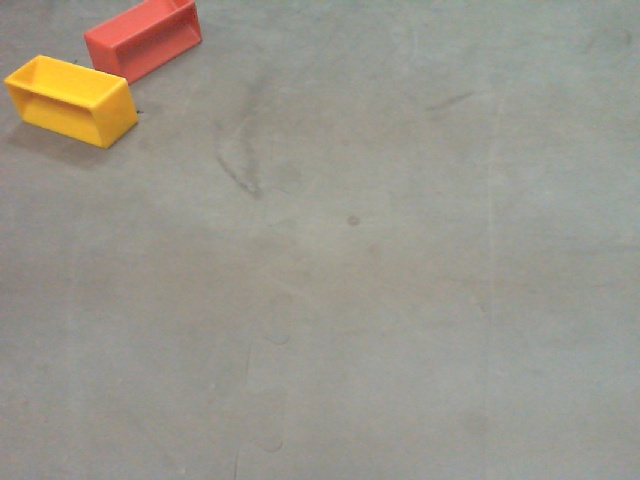RedSample: (82, 1, 205, 85)
YellowSample: (2, 50, 142, 153)
